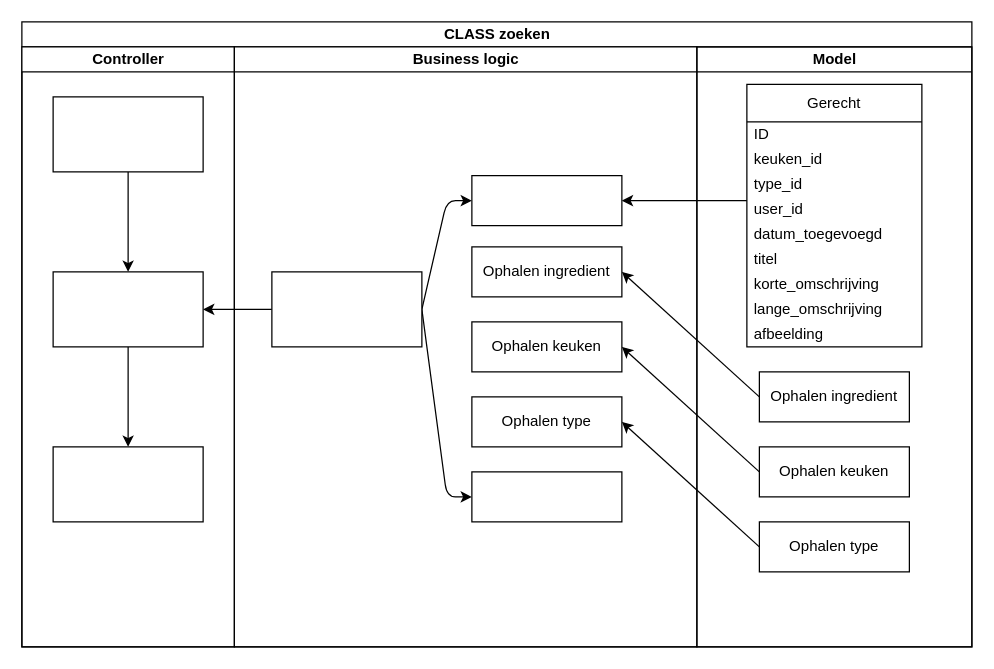
The diagram is 994 pixels wide and 669 high, and some of its shapes have lost their labels. Each missing label, with the centre of its shape:
"Filter titels aan de hand van keywords" goes at (x=546, y=496).
"Initialisatie" goes at (x=127, y=134).
"Ophalen gerecht" goes at (x=546, y=200).
"Toon resultaat zoekopdracht" goes at (x=127, y=484).
"Typ keywords in zoekbalk" goes at (x=127, y=309).
"Voer zoekopdracht uit" goes at (x=346, y=309).
